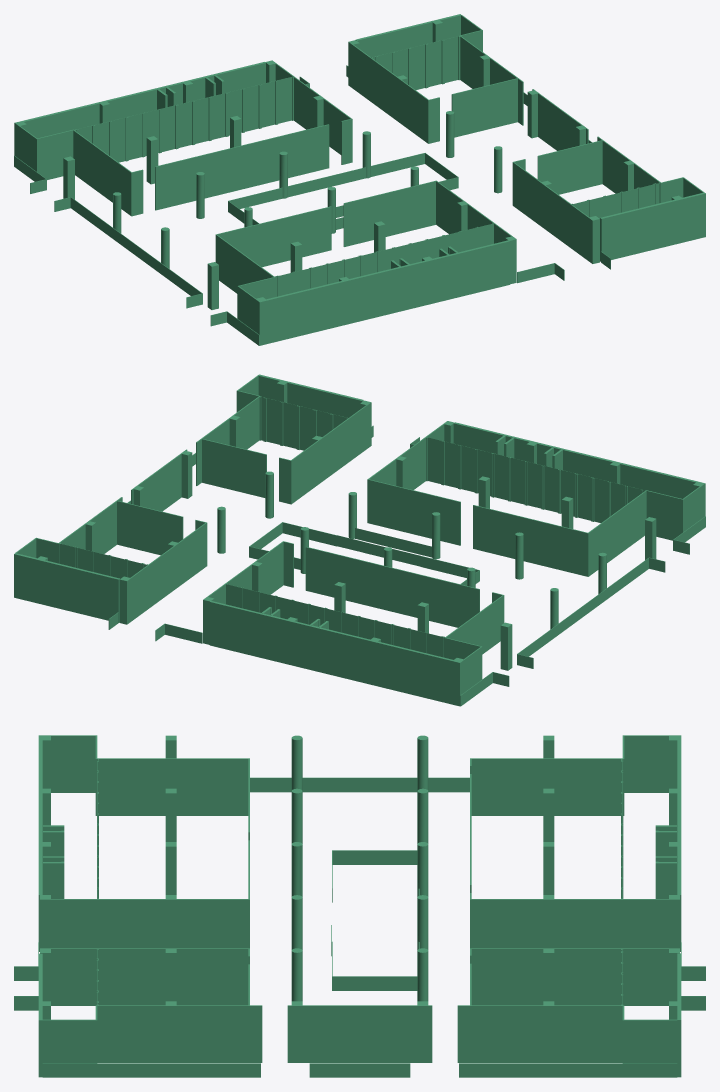
Rendered from AR07-21-modified-extruded-no-floor.fbx.
3 views of the same model, one above another, from view 1: azimuth 30°, elevation 25°; view 2: azimuth 150°, elevation 25°; view 3: azimuth 270°, elevation 25° (orthographic). The views are drawn at different scales.
Visible parts, largest first — view 1: 3D Solid (×45); view 2: 3D Solid (×48); view 3: 3D Solid (×56).
Part boxes in pixels (x1,y1,x2,y2): 3D Solid (×45): (14,14,705,345); 3D Solid (×48): (14,380,705,706); 3D Solid (×56): (38,735,681,1077).
Size of the model in its own units: 44560 by 44000 by 4000.
